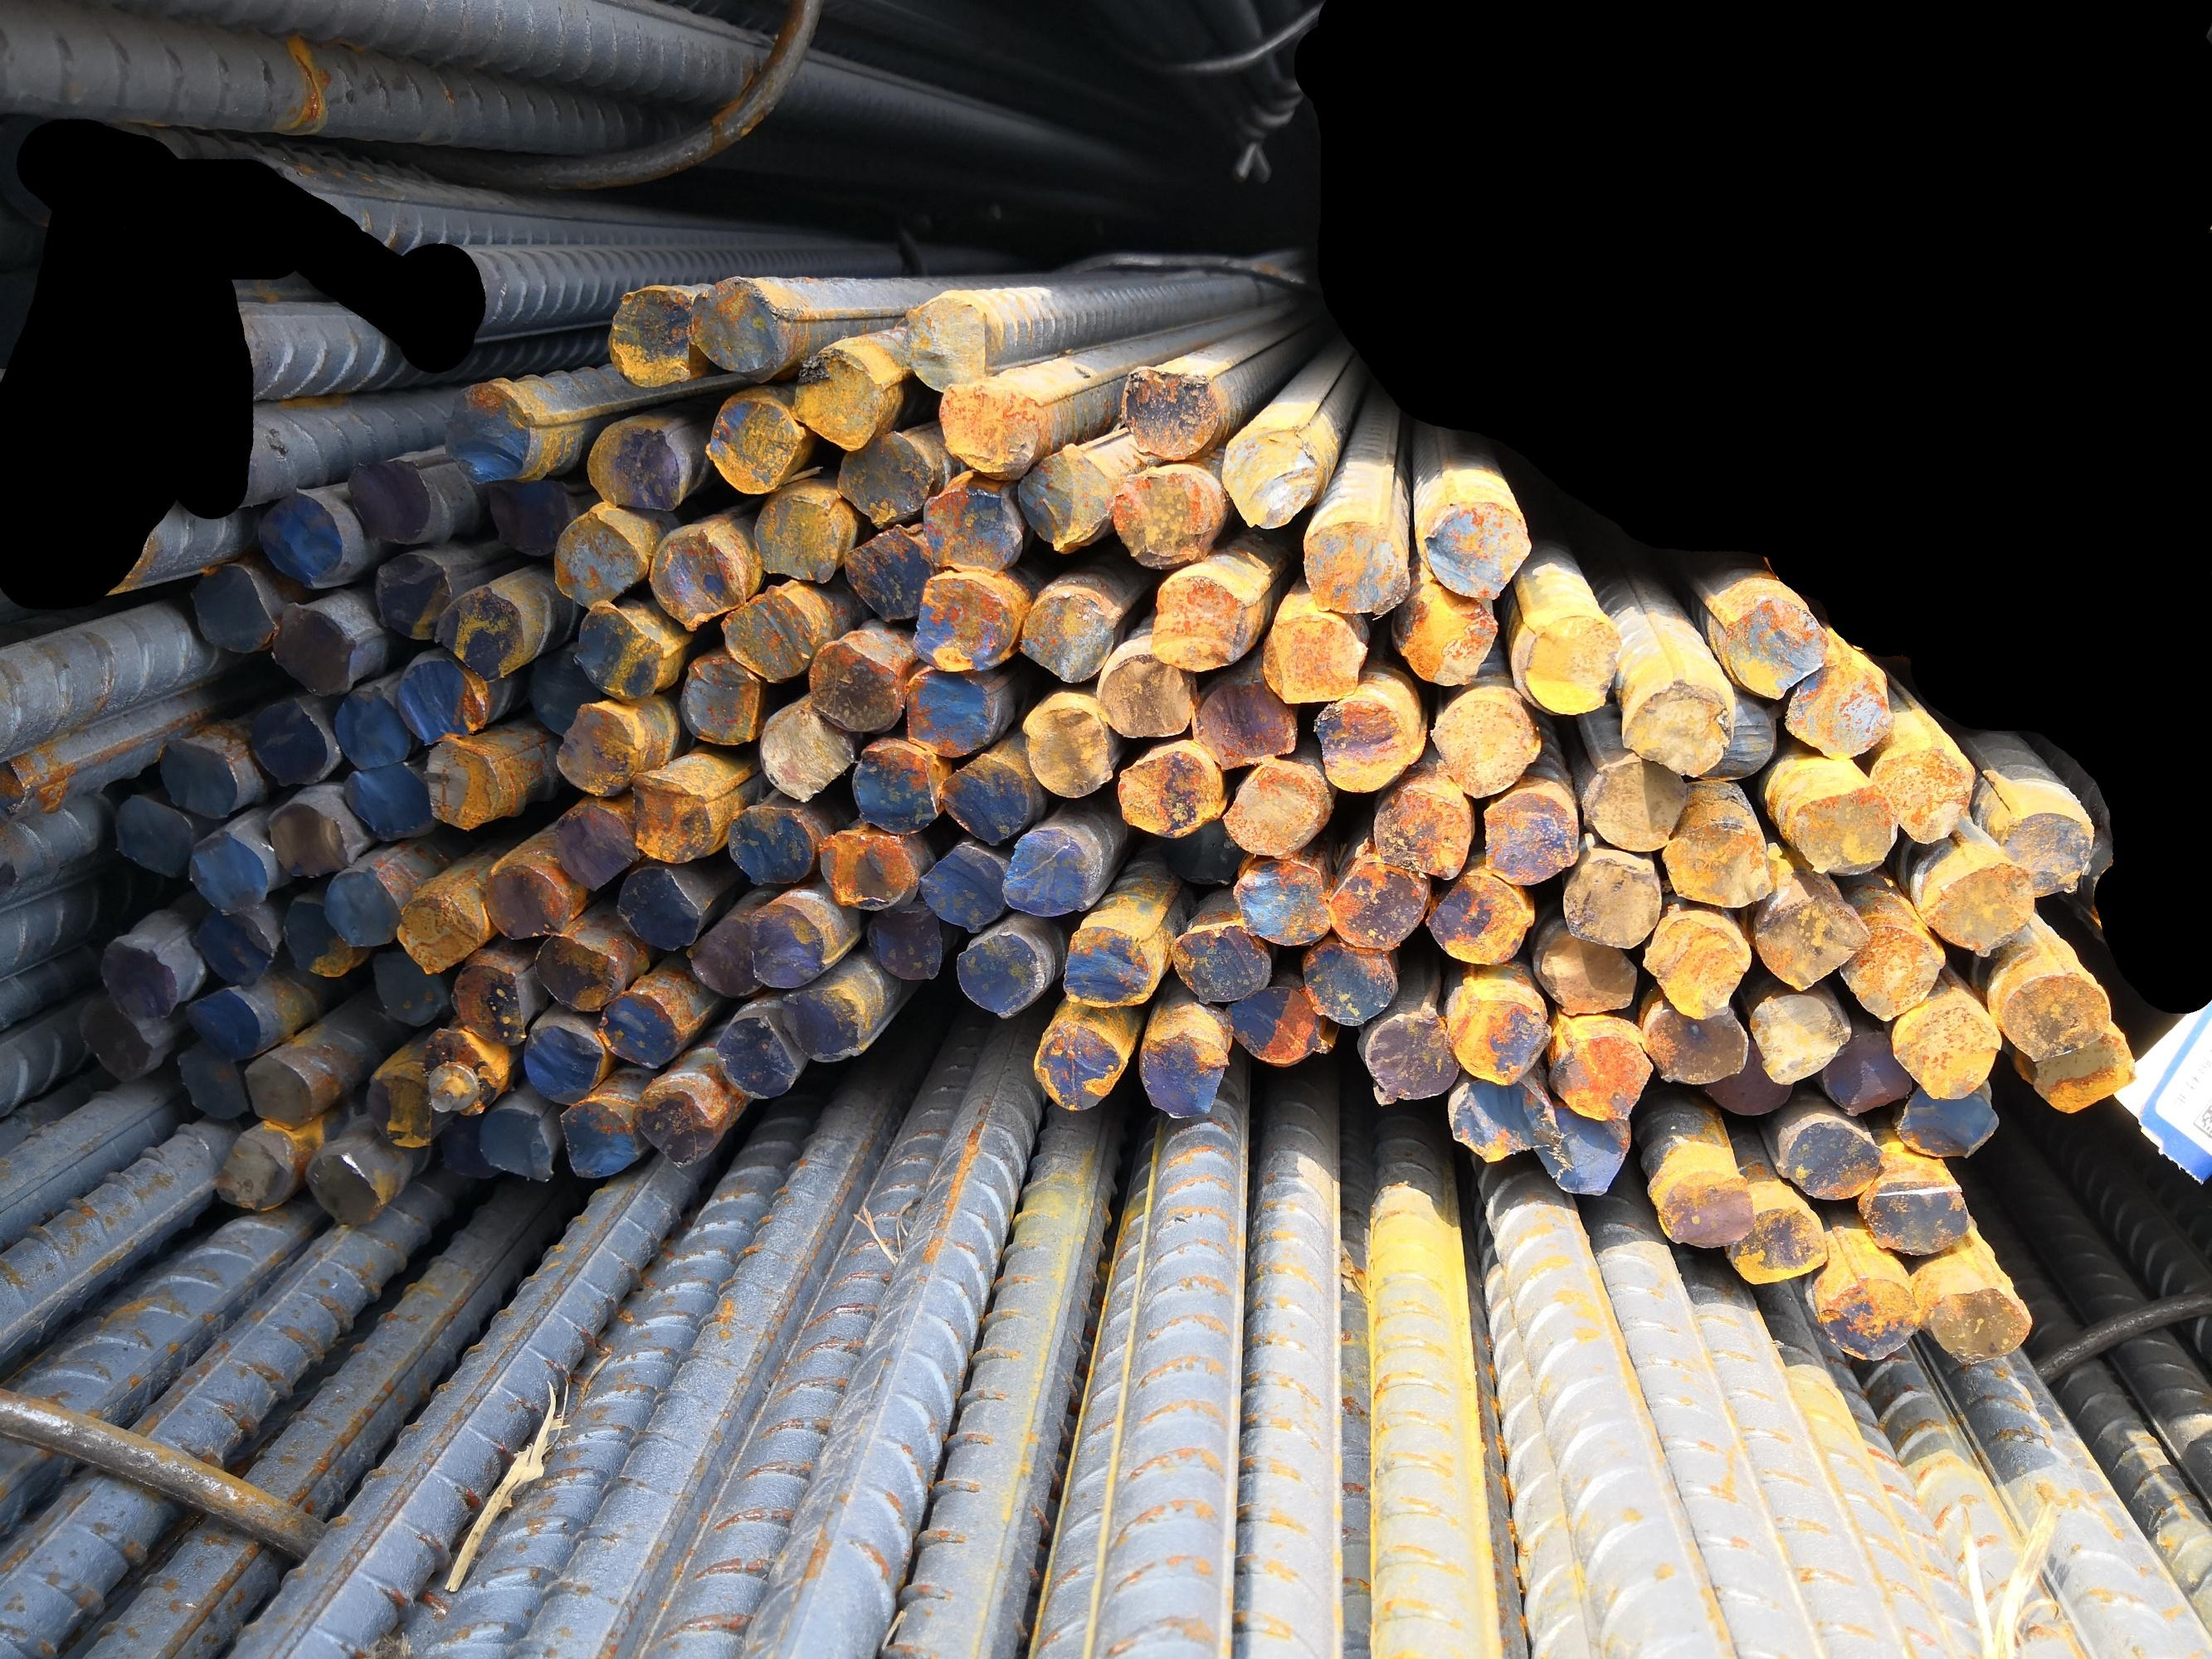bar: (1782, 635, 1898, 766), (1427, 683, 1547, 803), (1719, 577, 1834, 702), (1512, 598, 1622, 719), (1615, 668, 1735, 778), (1142, 562, 1261, 673), (931, 367, 1044, 483), (1440, 1063, 1563, 1168), (1830, 914, 1946, 1025), (1310, 684, 1425, 797), (1255, 591, 1367, 706), (1219, 415, 1325, 535), (1352, 992, 1459, 1112), (1780, 771, 1900, 878), (1644, 905, 1755, 1019), (1421, 489, 1535, 601), (1573, 750, 1688, 857), (579, 412, 696, 518), (1211, 971, 1335, 1071), (752, 688, 853, 808), (1300, 509, 1412, 618), (1110, 460, 1216, 574), (1888, 994, 2002, 1099), (1180, 670, 1298, 771), (834, 517, 940, 629), (435, 375, 539, 489), (1751, 890, 1871, 989), (1868, 735, 1976, 844), (1218, 756, 1334, 857), (1561, 843, 1666, 954), (1422, 864, 1535, 968), (1659, 811, 1775, 912), (702, 387, 808, 497), (1922, 857, 2037, 957), (1018, 574, 1124, 683), (912, 476, 1027, 576), (1369, 774, 1476, 881), (1391, 583, 1501, 687), (1325, 851, 1432, 957), (1445, 980, 1550, 1088), (1546, 1021, 1656, 1124), (1018, 689, 1119, 801), (1016, 438, 1116, 552), (750, 483, 858, 586), (646, 519, 748, 630), (891, 289, 992, 400), (831, 432, 943, 532), (1995, 795, 2098, 902), (1747, 985, 1854, 1088), (545, 501, 646, 611), (792, 339, 888, 454), (2000, 966, 2118, 1058), (1815, 1262, 1922, 1364), (1477, 783, 1581, 887), (1526, 1092, 1631, 1195), (1087, 647, 1199, 743), (910, 570, 1014, 674), (800, 631, 905, 733), (1114, 361, 1220, 462), (1116, 742, 1226, 839), (1135, 1004, 1227, 1120), (683, 270, 783, 376), (1812, 1016, 1915, 1119), (842, 730, 941, 837), (1925, 1276, 2034, 1372), (1643, 992, 1754, 1087), (1771, 1113, 1883, 1207), (2035, 1018, 2138, 1119), (902, 655, 1001, 760), (601, 283, 697, 391), (250, 483, 345, 591), (1231, 850, 1337, 947), (1645, 1163, 1756, 1254), (1855, 1175, 1972, 1261), (1532, 926, 1640, 1019), (390, 650, 495, 743), (626, 766, 722, 866), (1026, 1015, 1127, 1111), (337, 443, 433, 542), (545, 793, 640, 894), (1061, 912, 1156, 1013), (570, 595, 661, 699), (1718, 1198, 1828, 1285), (430, 583, 530, 678), (815, 821, 916, 915), (1165, 920, 1278, 1004), (941, 743, 1030, 849), (718, 583, 814, 681), (1894, 1068, 2002, 1155), (389, 881, 490, 974), (421, 729, 508, 836), (509, 1012, 607, 1107), (1302, 934, 1401, 1028), (1000, 821, 1095, 917), (207, 1117, 302, 1214), (414, 1028, 514, 1120), (90, 931, 185, 1026), (178, 825, 275, 918), (610, 857, 699, 956), (723, 799, 821, 888), (190, 553, 278, 654), (370, 545, 455, 649), (553, 698, 641, 798), (919, 834, 1007, 933), (954, 926, 1045, 1022), (1698, 688, 1782, 790), (101, 786, 195, 878), (272, 594, 358, 694), (549, 1092, 642, 1184), (68, 991, 158, 1086), (241, 693, 332, 788), (714, 1004, 799, 1103), (338, 762, 438, 847), (153, 732, 246, 822), (777, 975, 868, 1068), (265, 795, 358, 884), (479, 854, 571, 943), (678, 649, 759, 749), (317, 859, 403, 953), (531, 932, 626, 1018), (186, 905, 281, 989), (629, 1078, 715, 1169), (490, 479, 579, 565), (1702, 1033, 1791, 1119), (166, 1031, 250, 1123), (597, 985, 685, 1073), (745, 901, 832, 989), (472, 1100, 559, 1187), (181, 975, 270, 1061), (301, 1141, 387, 1229), (446, 953, 528, 1044), (868, 893, 946, 986), (685, 909, 763, 1001), (358, 1058, 433, 1151), (327, 684, 410, 766), (1160, 811, 1245, 891), (281, 888, 354, 978), (367, 951, 449, 1027), (238, 1051, 318, 1127), (529, 650, 596, 737), (431, 1105, 501, 1185)
